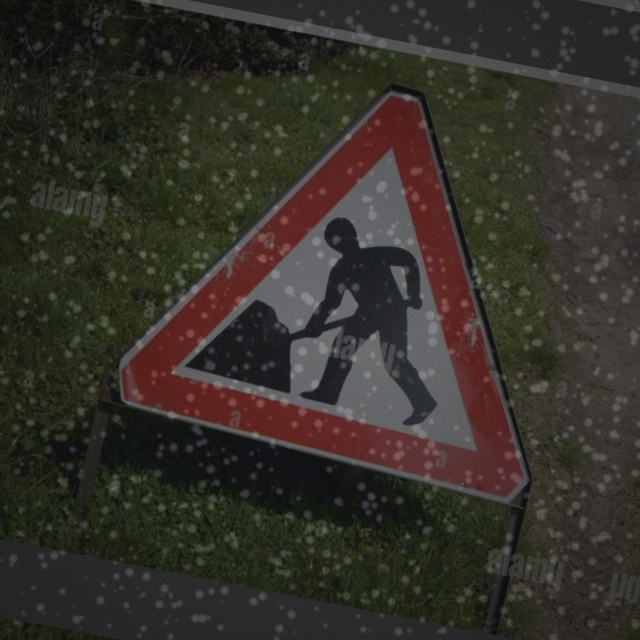Men_at_Work: (99, 44, 610, 508)
